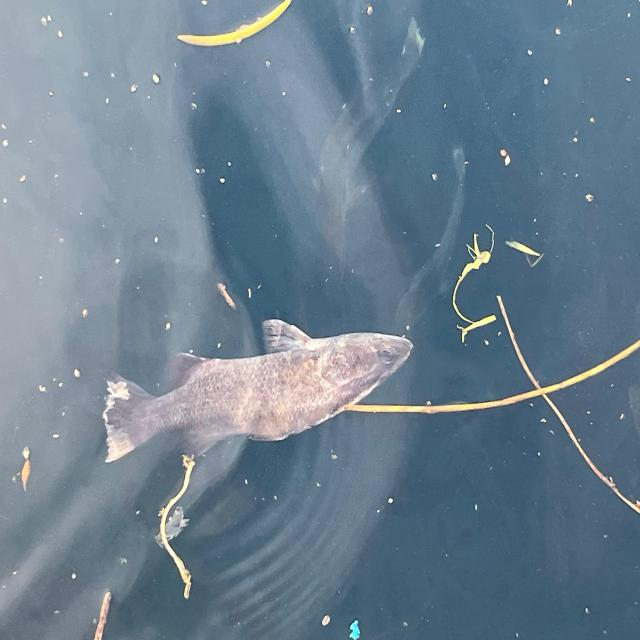ikan: (102, 316, 414, 483)
